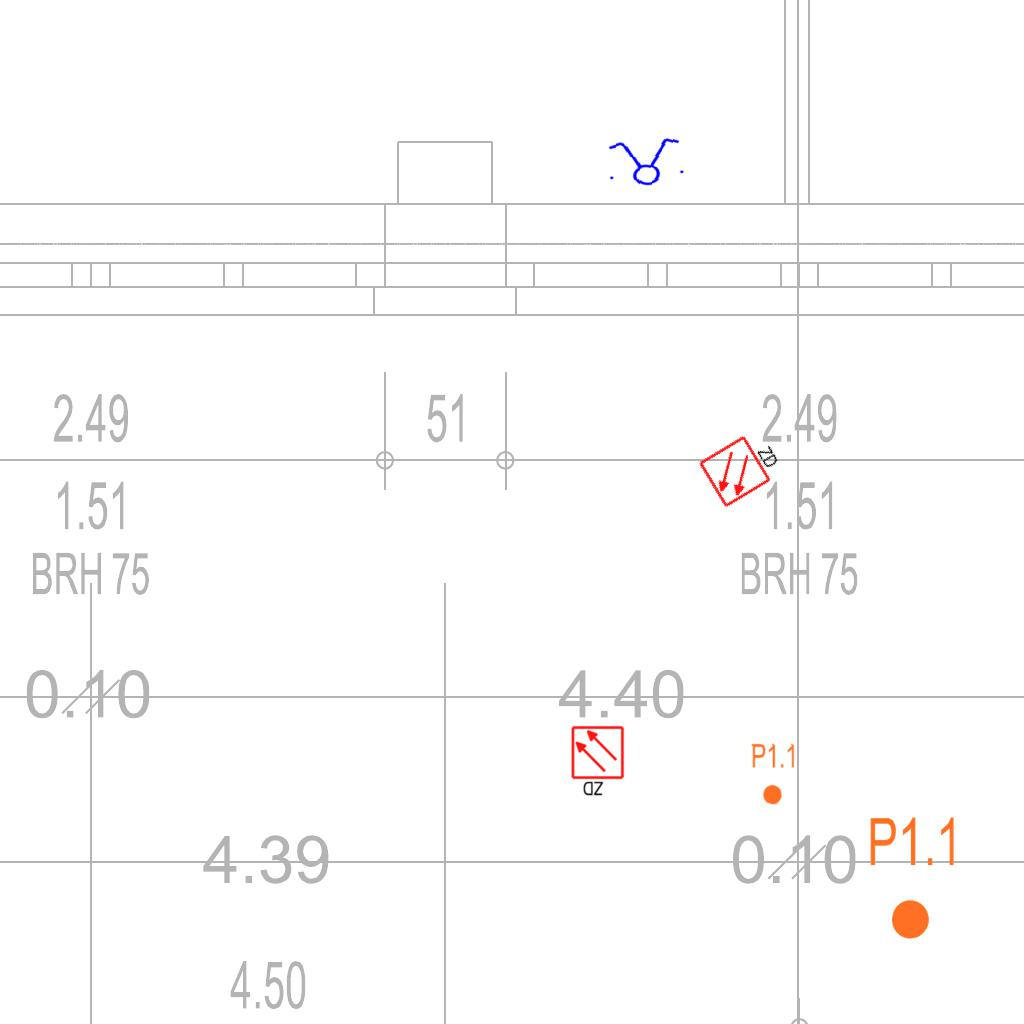Downlight_LED_Einbauleuchten_Flur: (867, 814, 960, 942), (750, 741, 798, 807)
Serienschalter: (601, 134, 689, 190)
ZD_Melder_in_Zwischendecke_mit_Revisionsoeffnung_mind_40_x_40_cm: (696, 422, 789, 510), (570, 725, 627, 799)
